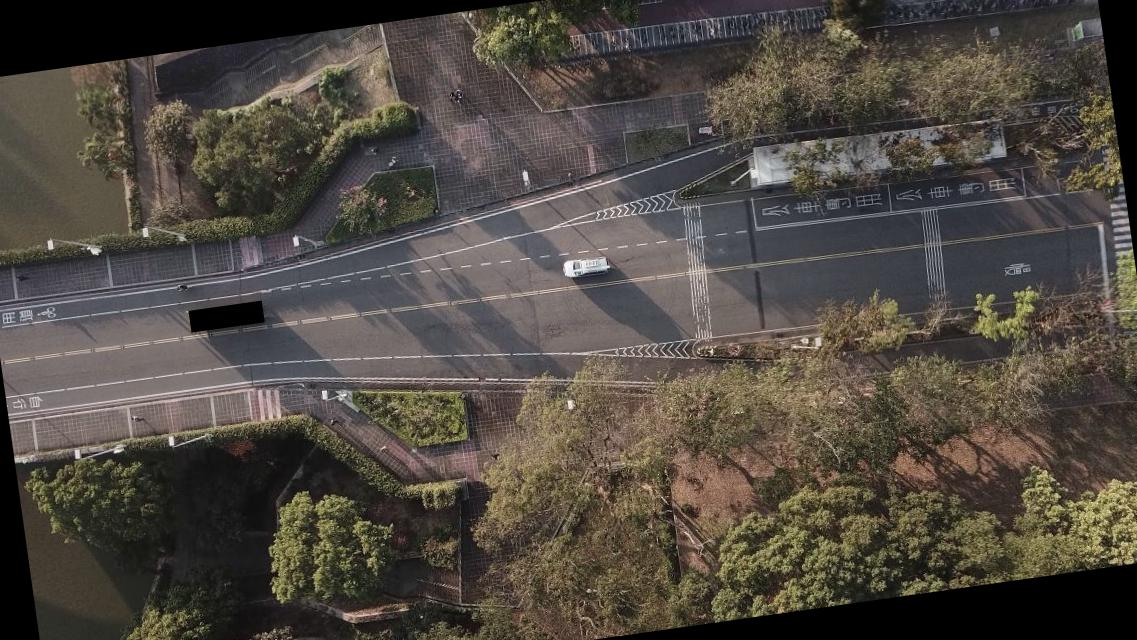vehicle: (562, 254, 613, 280)
